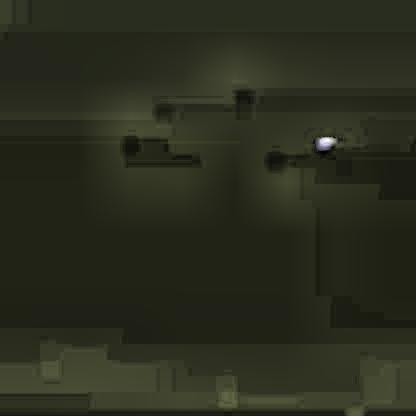golfball: (314, 133, 334, 150)
